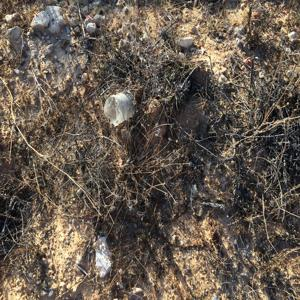plastic: (99, 90, 153, 130), (82, 231, 123, 283)
